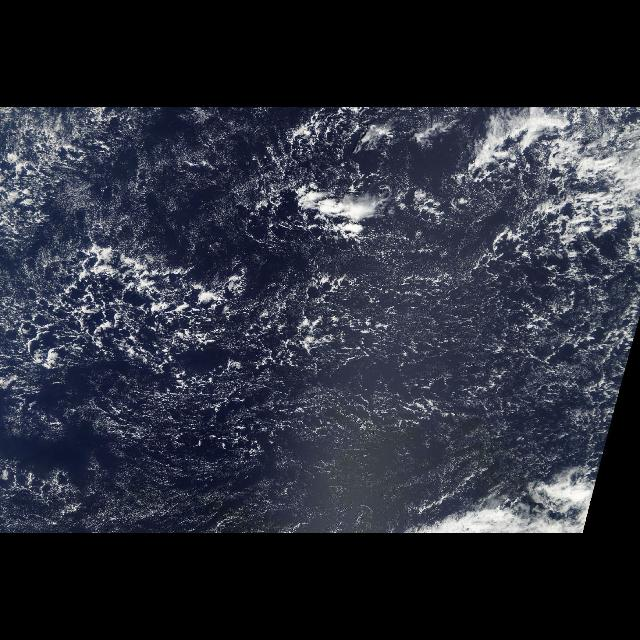Gravel: (1, 110, 640, 532)
Sugar: (107, 452, 465, 530)
